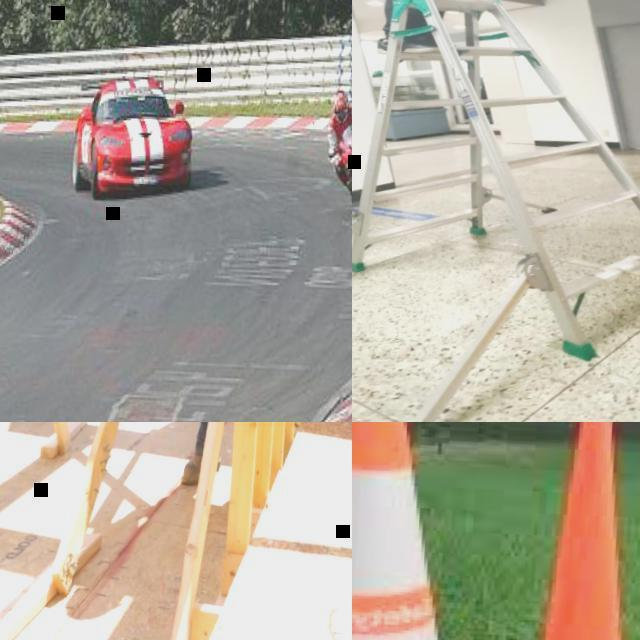helmet: (333, 90, 349, 122)
no_vest: (330, 109, 352, 144)
person: (355, 0, 545, 60), (324, 87, 352, 197)
safety_cone: (352, 422, 522, 640), (520, 422, 640, 640)
vehicle: (70, 68, 200, 205)
